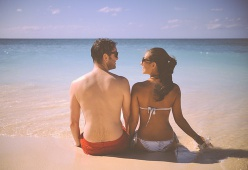female: (138, 48, 167, 81)
male: (92, 37, 121, 76)
